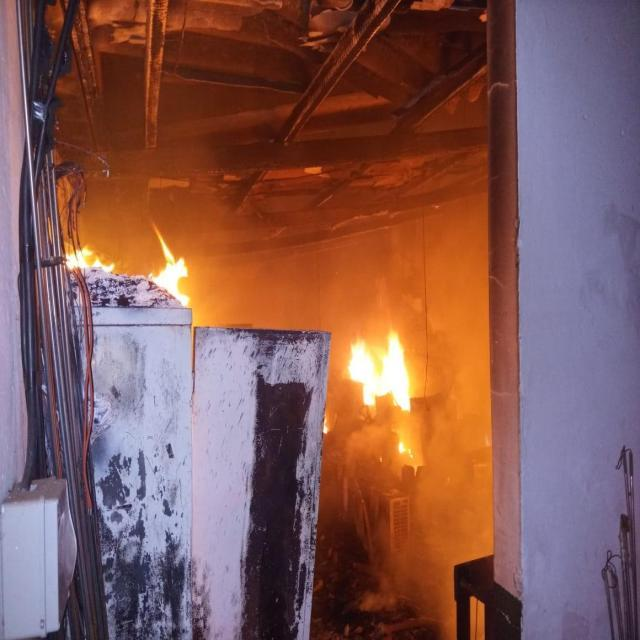Fire: (342, 328, 418, 421), (147, 234, 190, 310), (66, 234, 118, 284)
